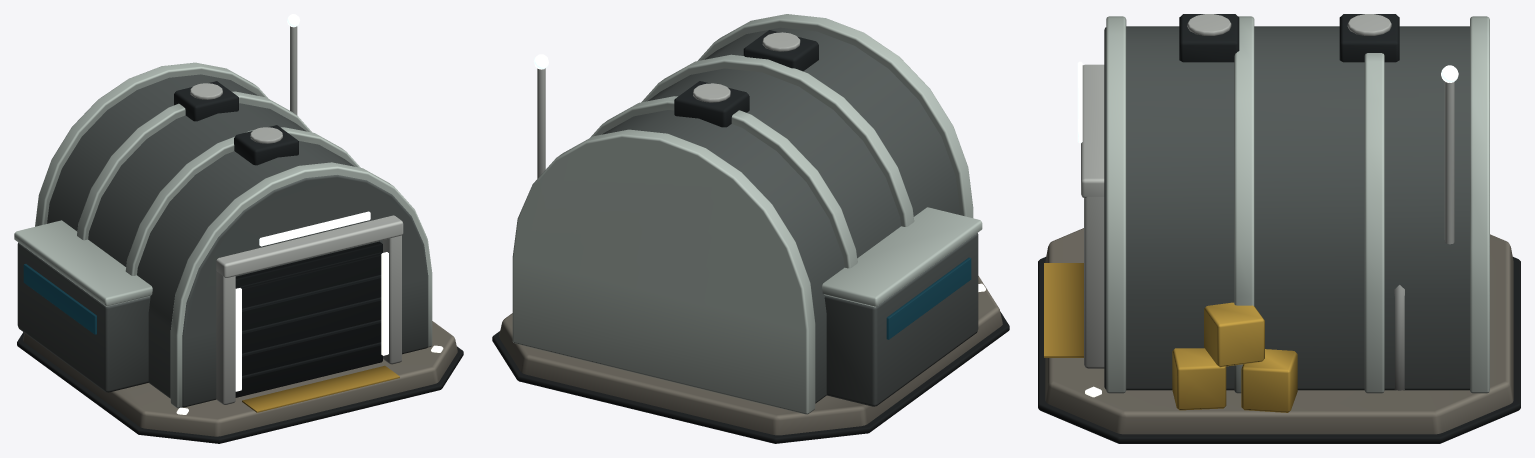
File: barracks.glb
The picture shows the model from 3 angles, left to right: view 1: azimuth 30°, elevation 25°; view 2: azimuth 150°, elevation 25°; view 3: azimuth 270°, elevation 25°; orthographic projection. The views are drawn at different scales.
Visible parts, largest first — view 1: Hangar, Ribs, Gear.007, Foundation.001, Steel.009, Annex, Trim.001, Hazard.001, Windows.001, Lamps.003, Lights.007; view 2: Ribs, Hangar, Annex, Foundation.001, Trim.001, Gear.007, Steel.009, Windows.001; view 3: Hangar, Ribs, Foundation.001, Steel.009, Crates, Trim.001, Gear.007, Hazard.001, Lights.007.
Boxes of the visible parts, x1,y1,x2,y2 form: Hangar: [47, 74, 428, 407]; Ribs: [14, 62, 432, 408]; Gear.007: [174, 81, 382, 397]; Foundation.001: [23, 321, 457, 436]; Steel.009: [190, 26, 403, 404]; Annex: [17, 242, 150, 392]; Trim.001: [17, 332, 463, 443]; Hazard.001: [242, 365, 399, 412]; Windows.001: [23, 264, 96, 334]; Lamps.003: [235, 252, 388, 391]; Lights.007: [259, 14, 370, 246]; Ribs: [512, 14, 982, 414]; Hangar: [602, 27, 960, 403]; Annex: [824, 233, 978, 406]; Foundation.001: [499, 276, 1002, 435]; Trim.001: [492, 312, 1009, 443]; Gear.007: [674, 30, 818, 127]; Steel.009: [537, 32, 800, 178]; Windows.001: [886, 257, 971, 339]; Hangar: [1104, 26, 1469, 390]; Ribs: [1106, 16, 1489, 393]; Foundation.001: [1045, 228, 1513, 434]; Steel.009: [1081, 14, 1454, 390]; Crates: [1172, 302, 1297, 412]; Trim.001: [1038, 257, 1520, 443]; Gear.007: [1179, 14, 1399, 62]; Hazard.001: [1044, 263, 1083, 357]; Lights.007: [1077, 61, 1458, 143].
Bounding box in the file's own units: 5.1 × 3.84 × 4.82.
